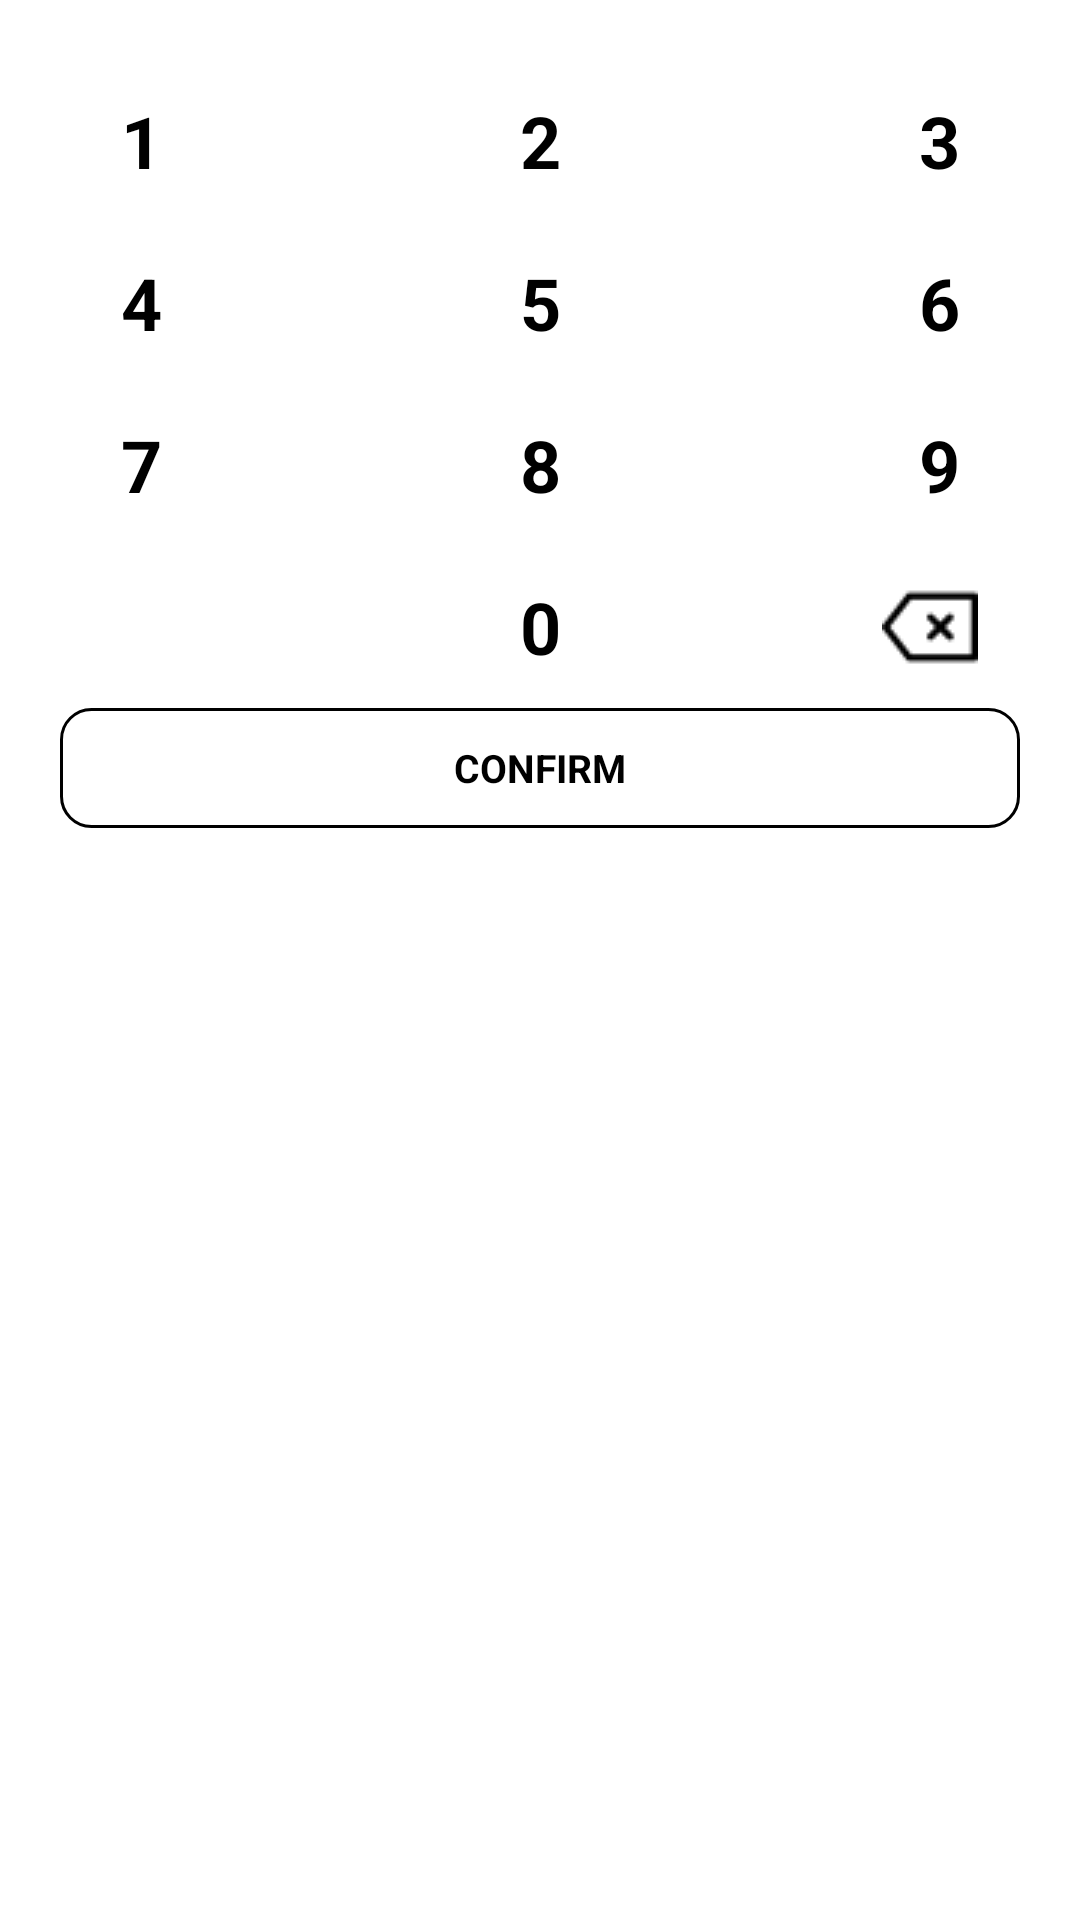

Locate icon controls on the screen. Image size 1080px×1920px, boxes as BBox(x1, y1, x2, y2).
backspace: BBox(882, 590, 978, 664)
